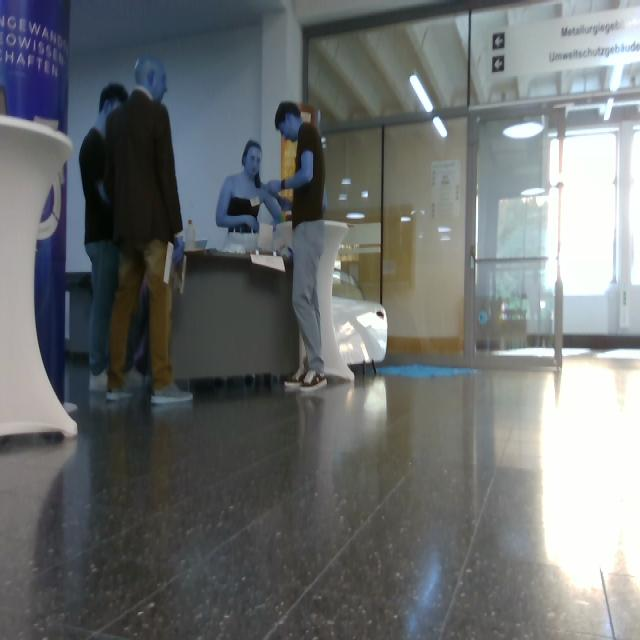desk: (171, 252, 299, 384), (66, 274, 93, 364), (127, 285, 151, 377)
door: (309, 1, 640, 370)
light bulb: (410, 74, 432, 113), (434, 117, 447, 138)
person: (106, 60, 192, 402), (266, 102, 326, 388), (80, 84, 128, 397), (217, 141, 282, 256), (124, 367, 146, 394)
table: (1, 116, 76, 436), (317, 221, 354, 382)
tiled floor: (1, 350, 640, 640)
